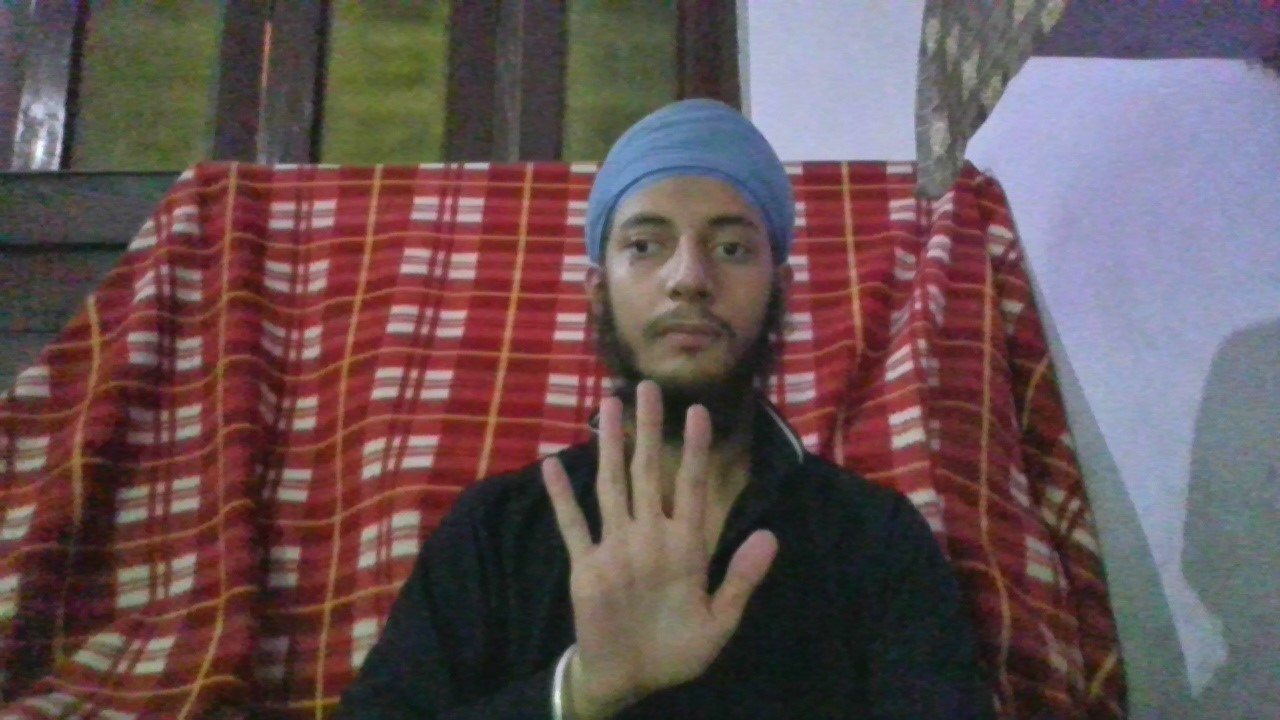Hello: (535, 378, 780, 691)
